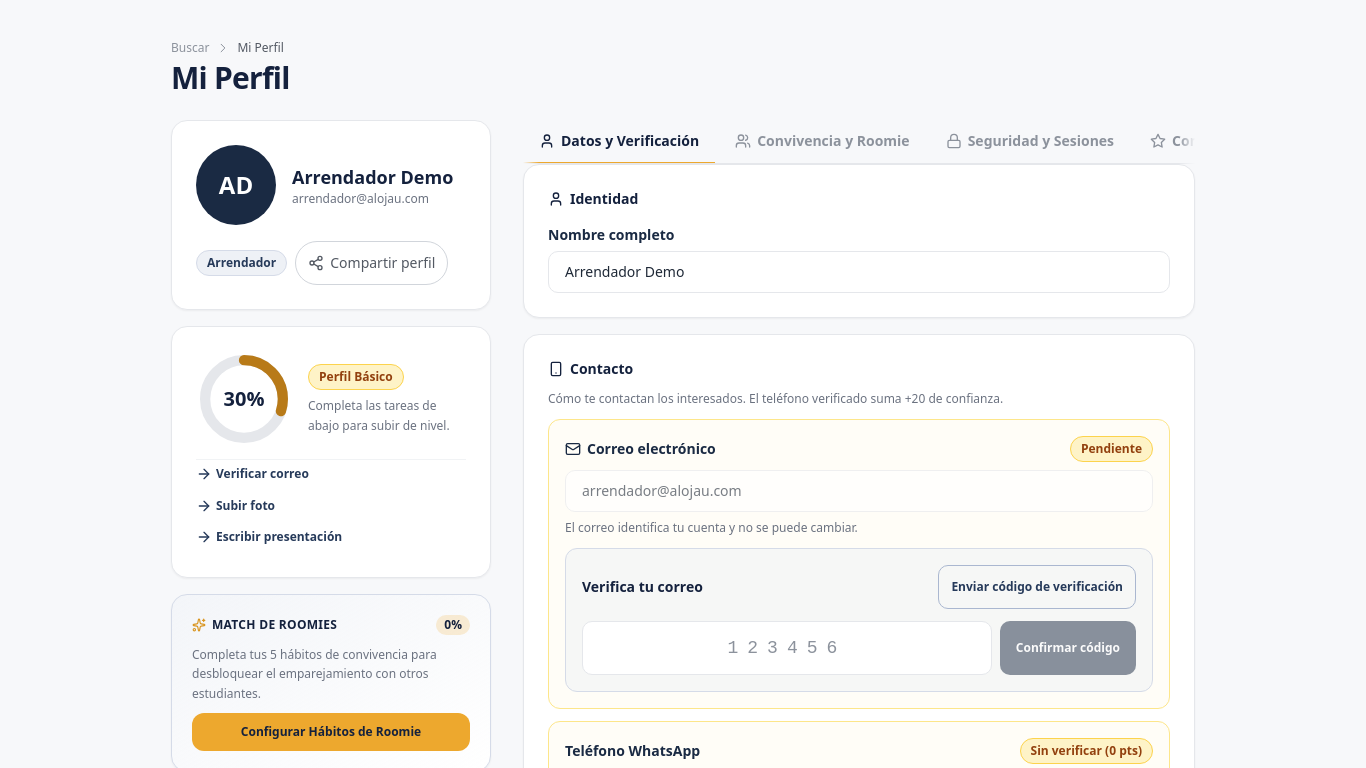
Test case: Perfil - Perfil verificable + confianza clara › M2 danger zone: botón bloqueado hasta que el correo coincide letra por letra
Check: the field showing "arrendador@alojau.com" is shown, box [565,470,1153,512]
Step 1. Click the tab "Seguridad y Sesiones" → (1030, 142), box [930,120,1130,164]
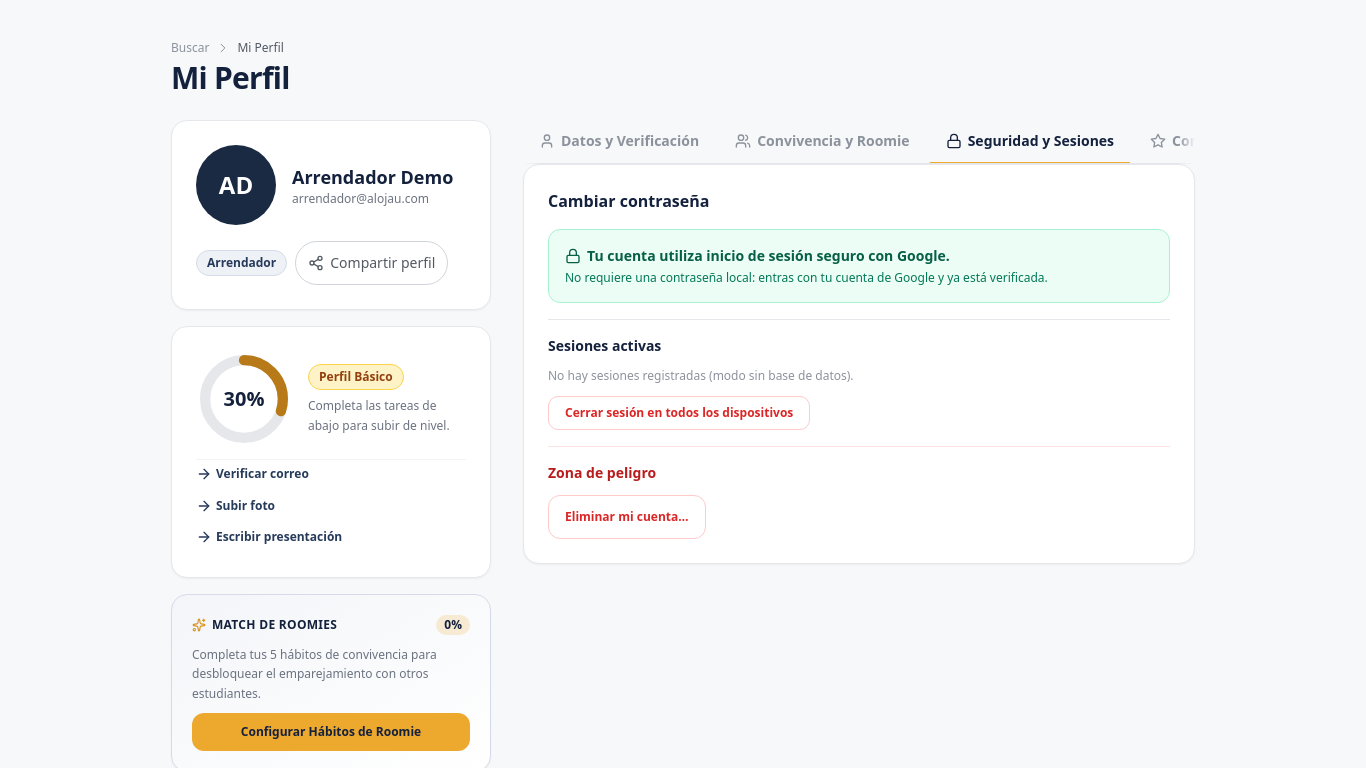
Step 2. Click the button "Eliminar mi cuenta…" → (627, 517), box [548,495,706,539]
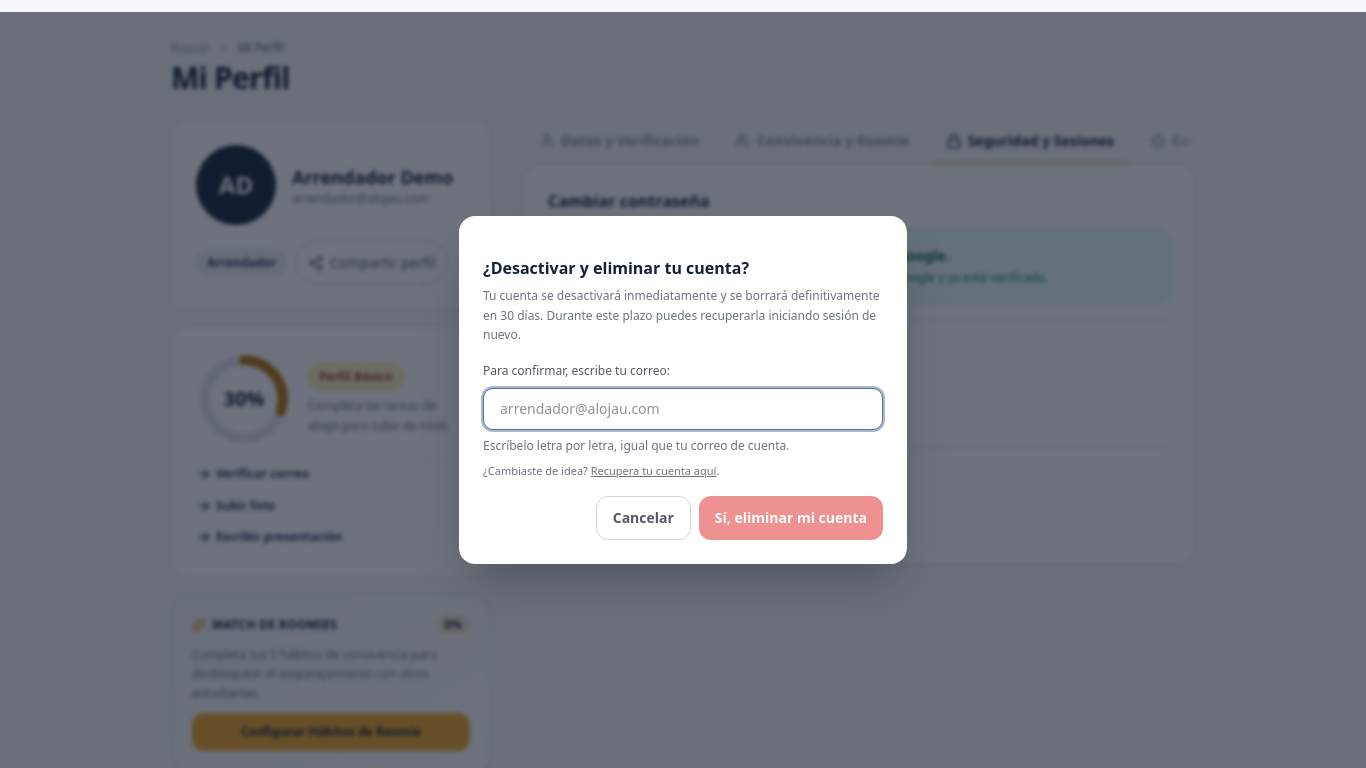
Check: the dialog "¿Desactivar y eliminar tu cuenta?" is shown
Check: the button "Sí, eliminar mi cuenta" is disabled, box [699,496,883,540]
Step 3. Type "otro@x.co" into the field named "Correo de confirmación" → (683, 409), box [483,388,883,430]
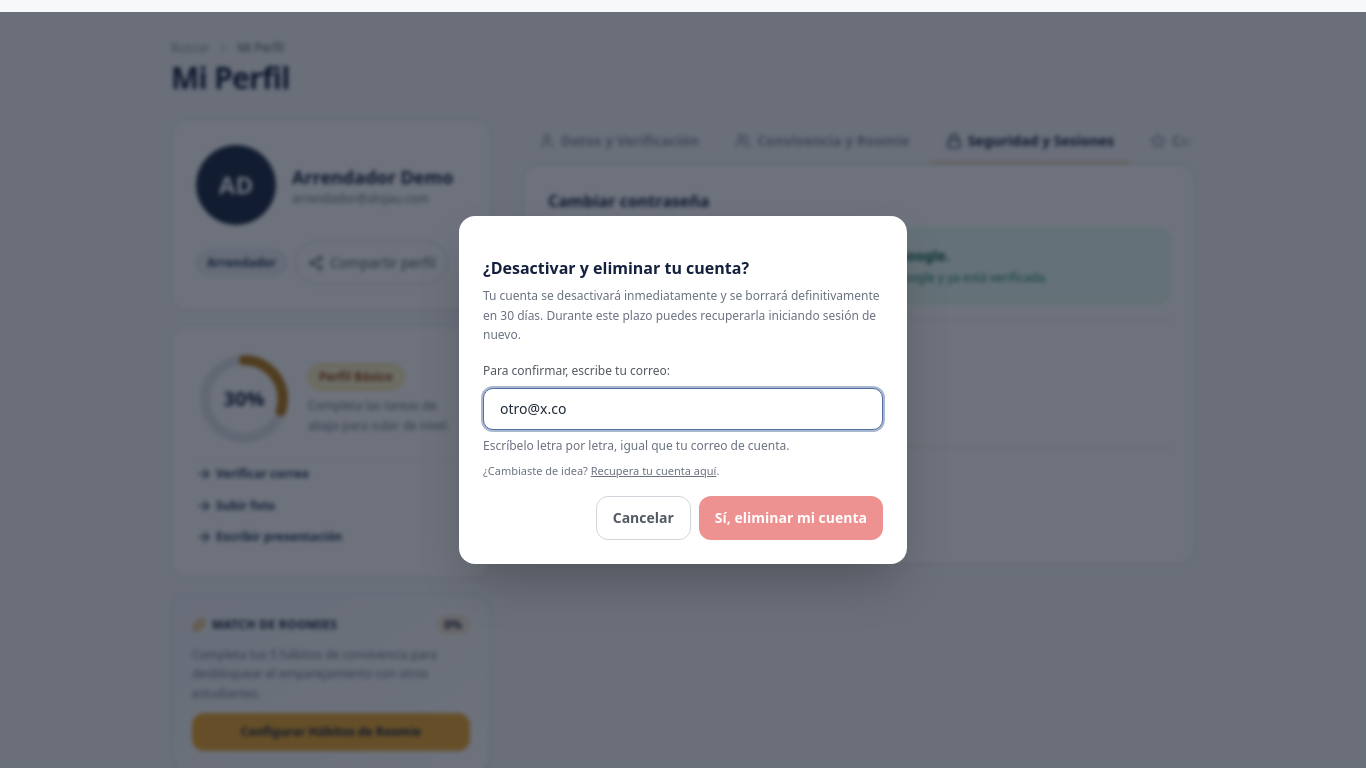
Check: the button "Sí, eliminar mi cuenta" is disabled, box [699,496,883,540]
Step 4. Replace the text in the field named "Correo de confirmación" with "arrendador@alojau.com" → (683, 409), box [483,388,883,430]
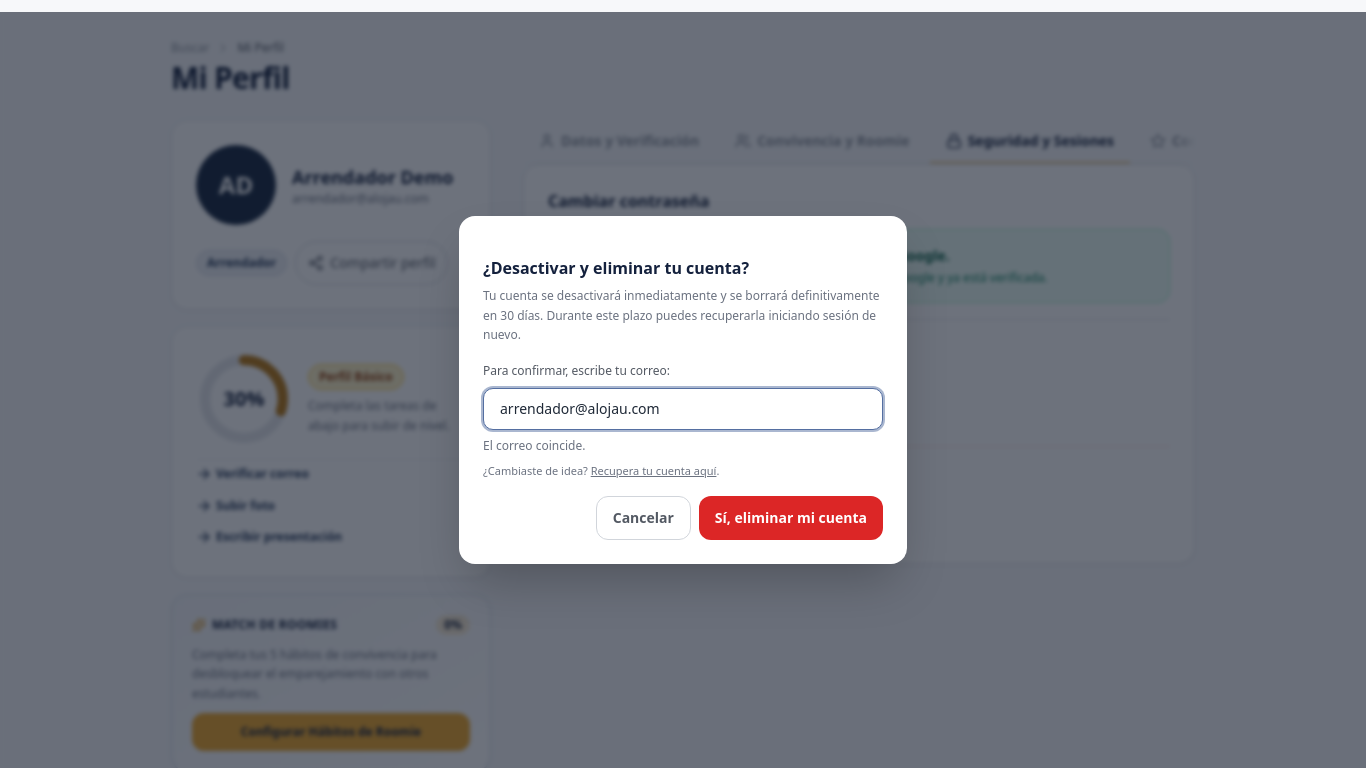
Check: the button "Sí, eliminar mi cuenta" is enabled, box [699,496,883,540]
